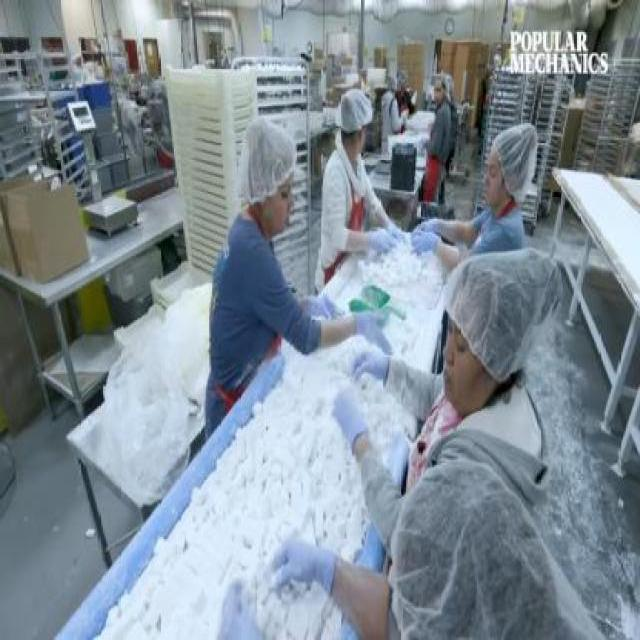gloved_hand: (263, 522, 341, 611), (329, 381, 376, 465), (209, 581, 274, 640), (346, 339, 403, 403), (348, 293, 398, 355), (298, 283, 344, 320), (362, 227, 399, 261), (406, 207, 445, 237), (410, 224, 438, 256)
